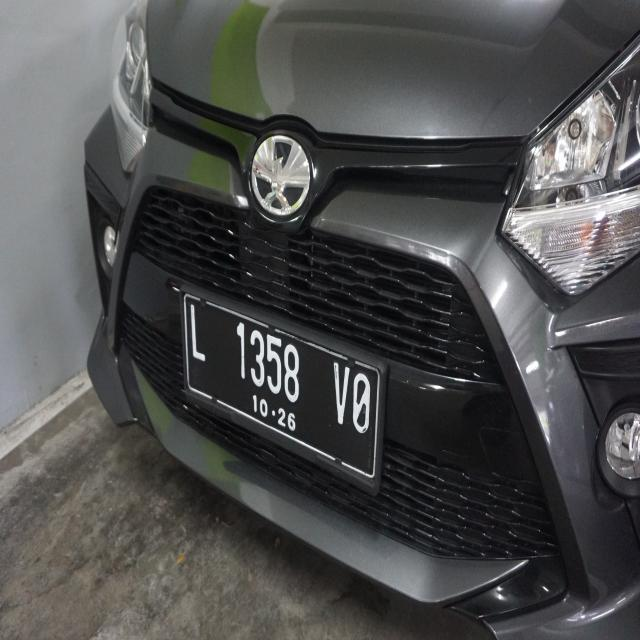1: (232, 315, 251, 386)
3: (248, 326, 266, 397)
5: (265, 330, 284, 407)
8: (280, 338, 306, 410)
L: (178, 301, 213, 373)
O: (346, 363, 375, 440)
V: (330, 354, 354, 426)
